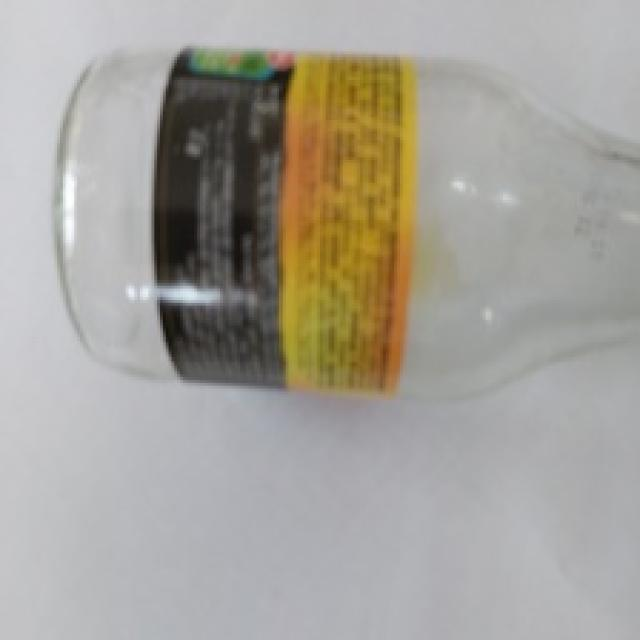glass: (49, 44, 640, 405)
